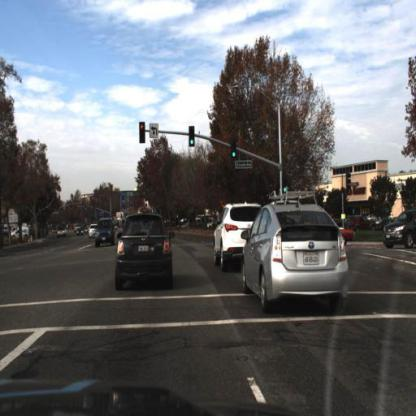car: (237, 195, 350, 309), (110, 201, 178, 307), (213, 196, 257, 270), (377, 206, 415, 254), (93, 209, 117, 249), (4, 220, 32, 248), (342, 210, 376, 232), (339, 217, 358, 252), (12, 221, 34, 245), (55, 222, 67, 240), (87, 223, 97, 240), (73, 224, 84, 235)
trafficLight-Green: (187, 118, 199, 154), (227, 134, 240, 165), (228, 137, 238, 161), (280, 177, 288, 198)
trafficLight-RedLeft: (136, 117, 148, 148)
